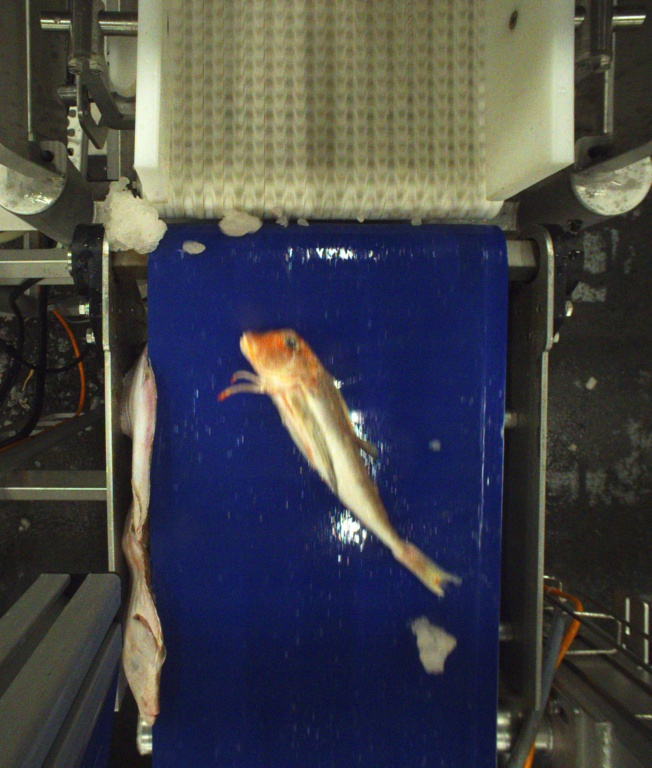GUU: (217, 328, 461, 600)
